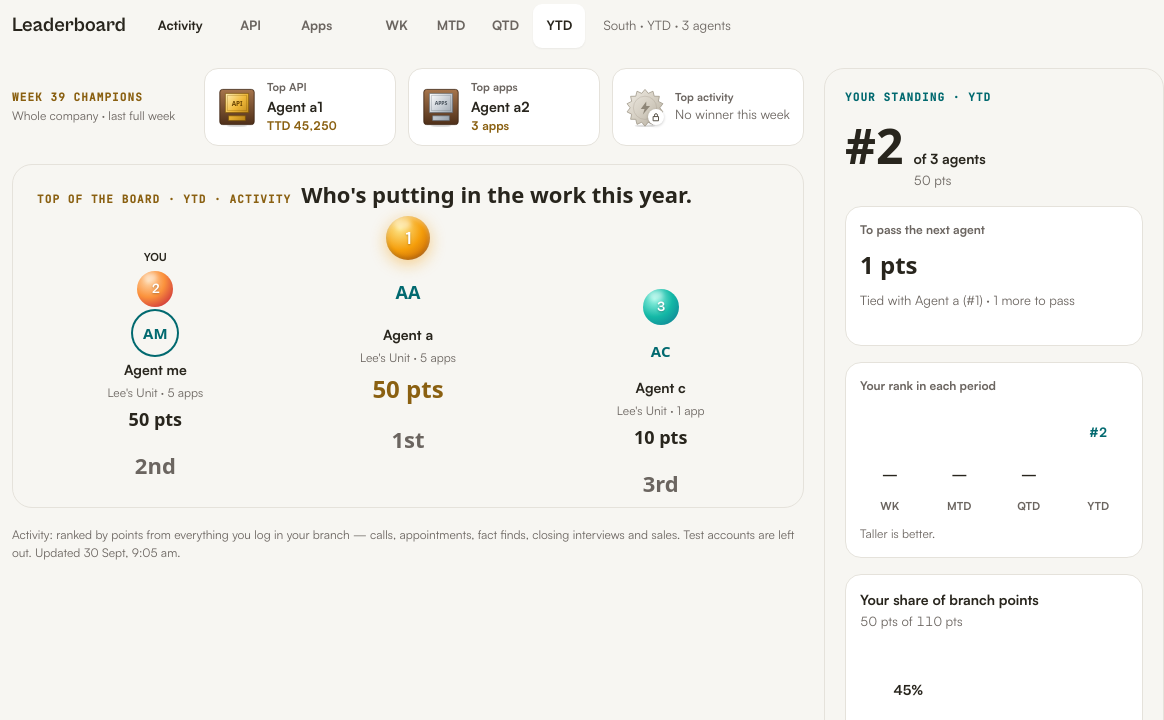
Test: FR Leaderboard — "to pass" on a tie (Amendment A2) › api: one unit of the board, and "Tied with {name} (#{rank}) · 1 more to pass"
Click the radio button with test id "fr-leaderboard-board-api" at (251, 26), box [219, 4, 283, 48]
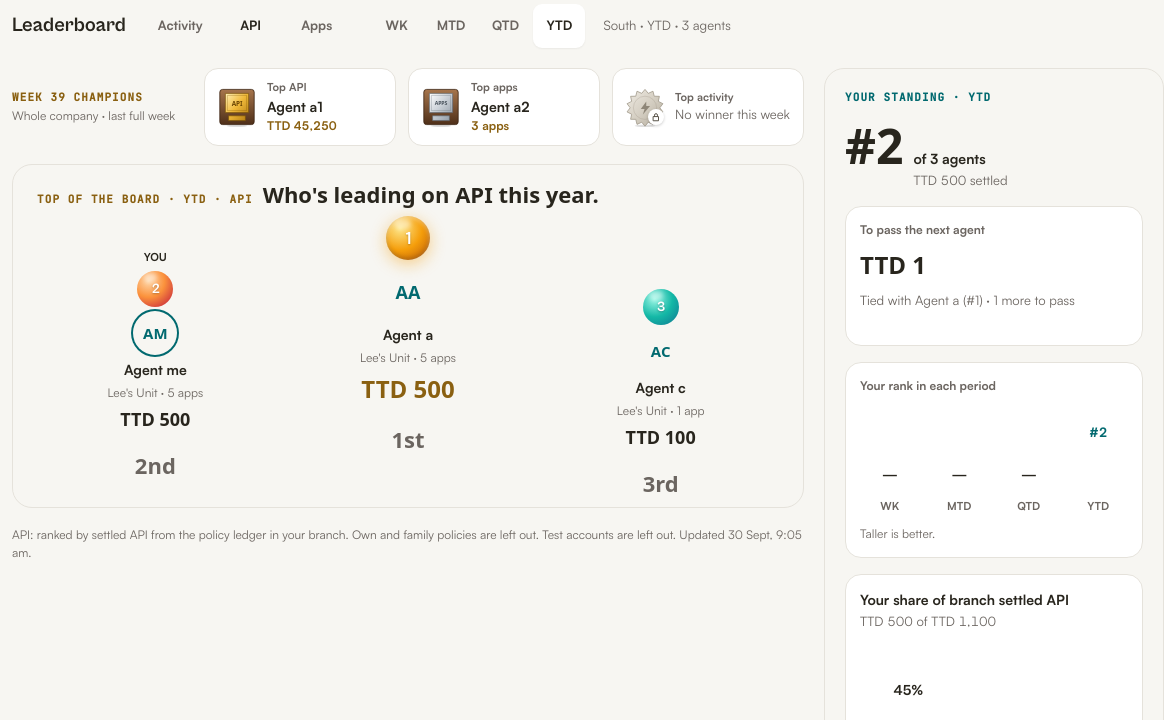
Now the text "TTD 1" is shown, box [860, 248, 926, 281]
